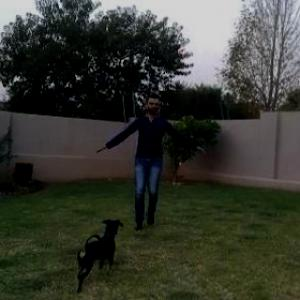land: (91, 91, 224, 252)
